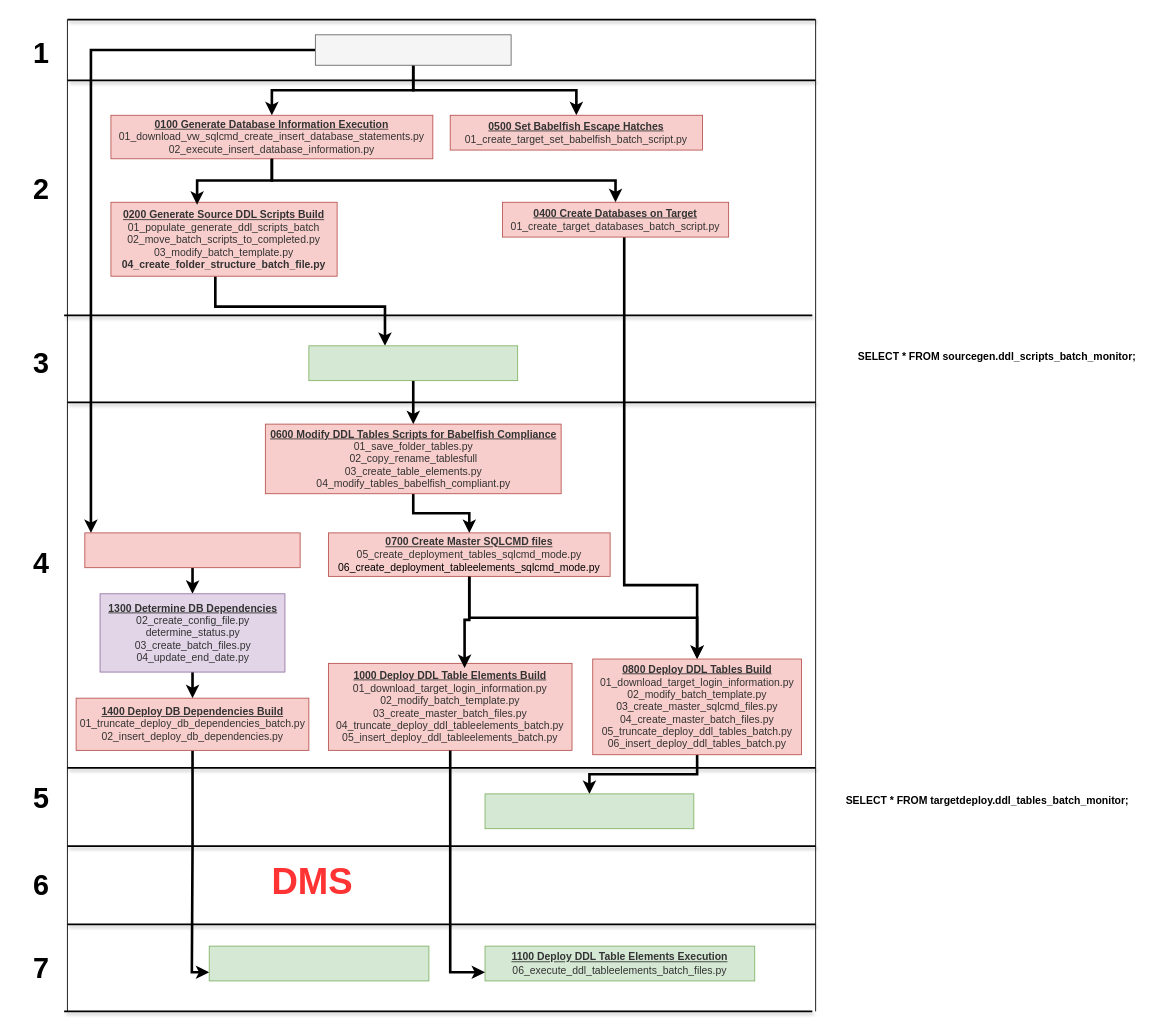
Image size: 1155x1034. Some labels were removed from this diagram. Here are the shapes that lost their labels. From the top down, the centre of each, then its label:
At (413,49): "Input Data Into Information Database".
At (413,363): "0300 Generate DDL Scripts Execution 05_execute_master_batch_files.py".
At (192,550): "1200 Generate DB Dependencies Build 01_insert_dd_dependencies_batch.py".
At (589,811): "0900 Deploy DDL Tables Execution 07_execute_ddl_tables_batch_files.py".
At (318,963): "1500 Deploy DB Dependencies Execution 03_execute_db_dependencies.py".
